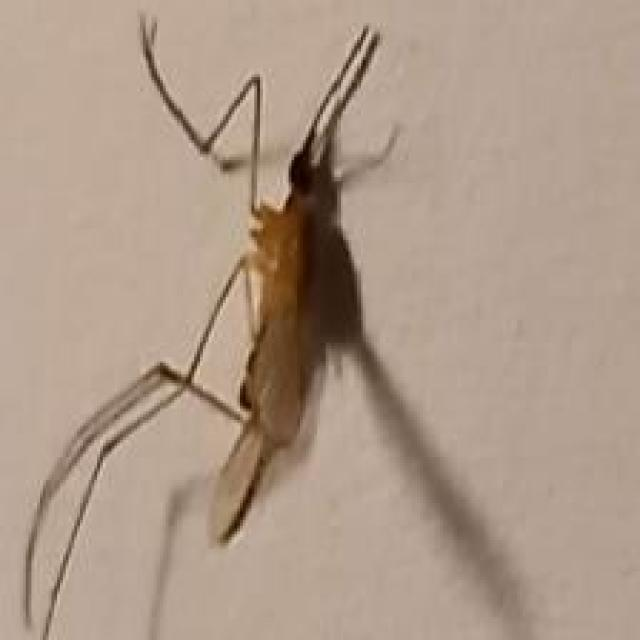Culex: (20, 11, 546, 640)
